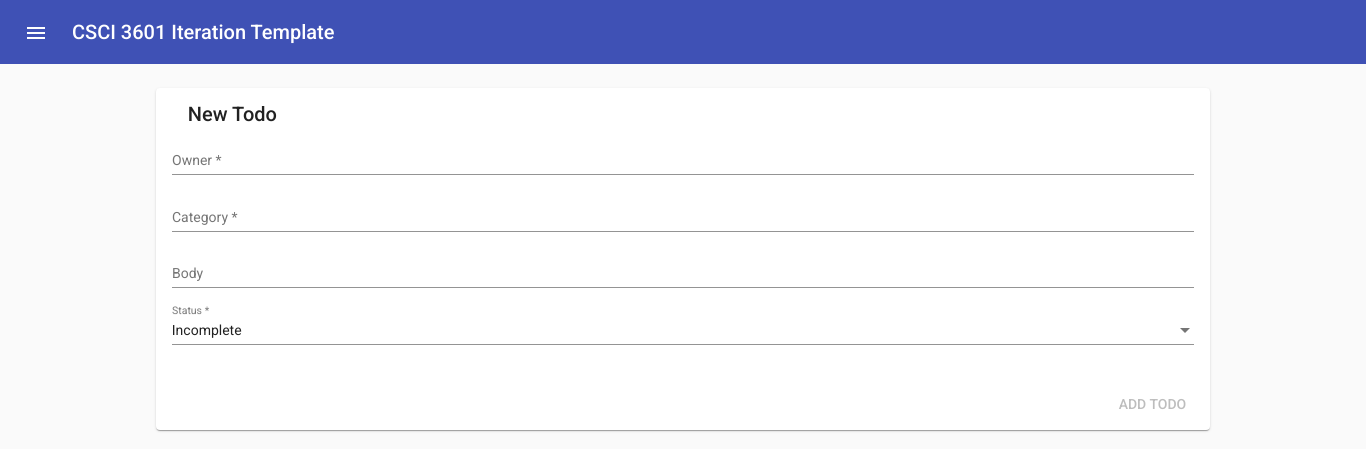
Scenario: Add Todo › should enable and disable the add button based on completeness of fields
Check: the button with test id "confirmAddTodoButton" is disabled, box [1103, 386, 1203, 422]
Type "John" into the field labelled "Owner *" at (683, 161), box [172, 153, 1194, 169]
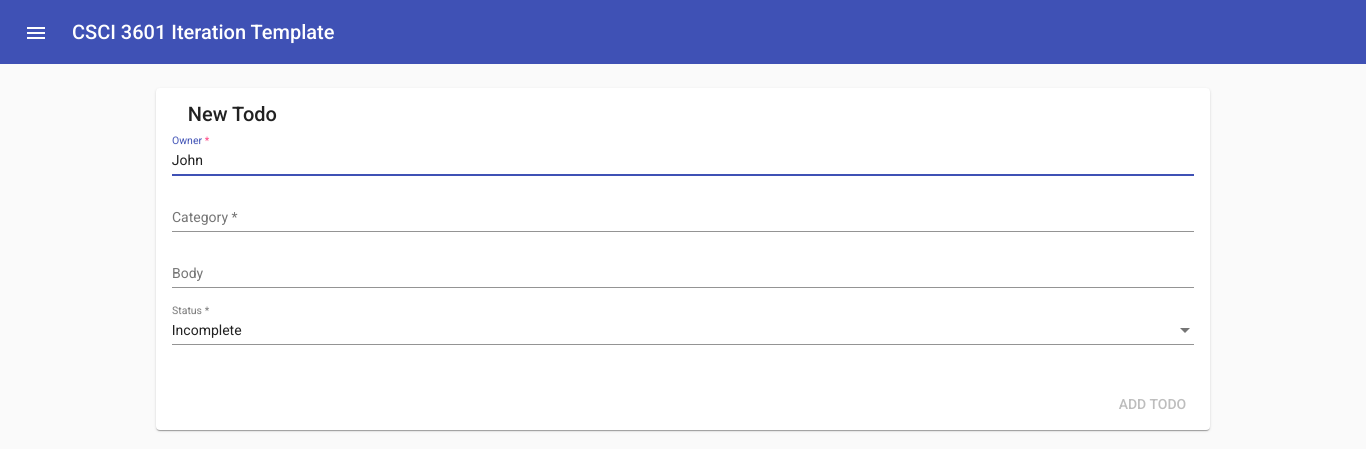
Type "homework" into the field labelled "Category *" at (683, 218), box [172, 210, 1194, 226]
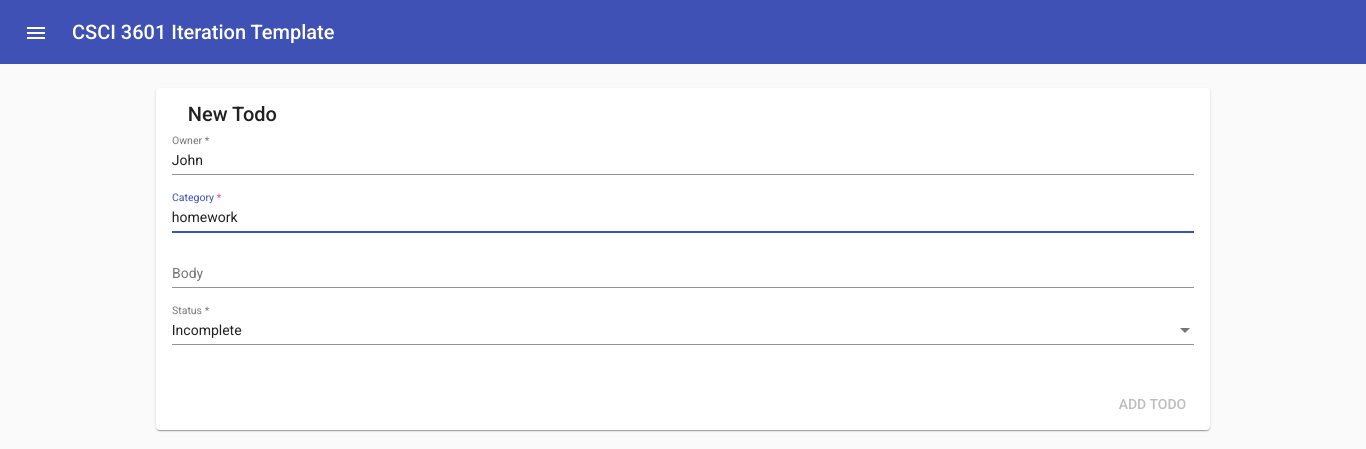
Check: the button with test id "confirmAddTodoButton" is disabled, box [1103, 386, 1203, 422]
Type "this is a body" into the field with placeholder "Body" at (683, 274), box [172, 266, 1194, 282]
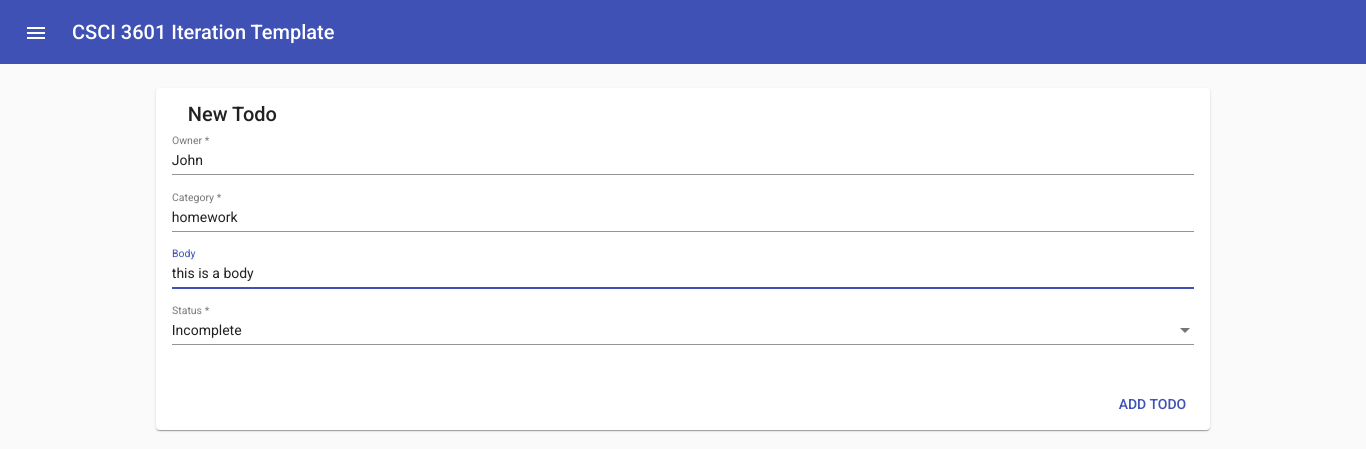
Check: the button with test id "confirmAddTodoButton" is enabled, box [1103, 386, 1203, 422]
Clear the field labelled "Owner *" at (683, 161), box [172, 153, 1194, 169]
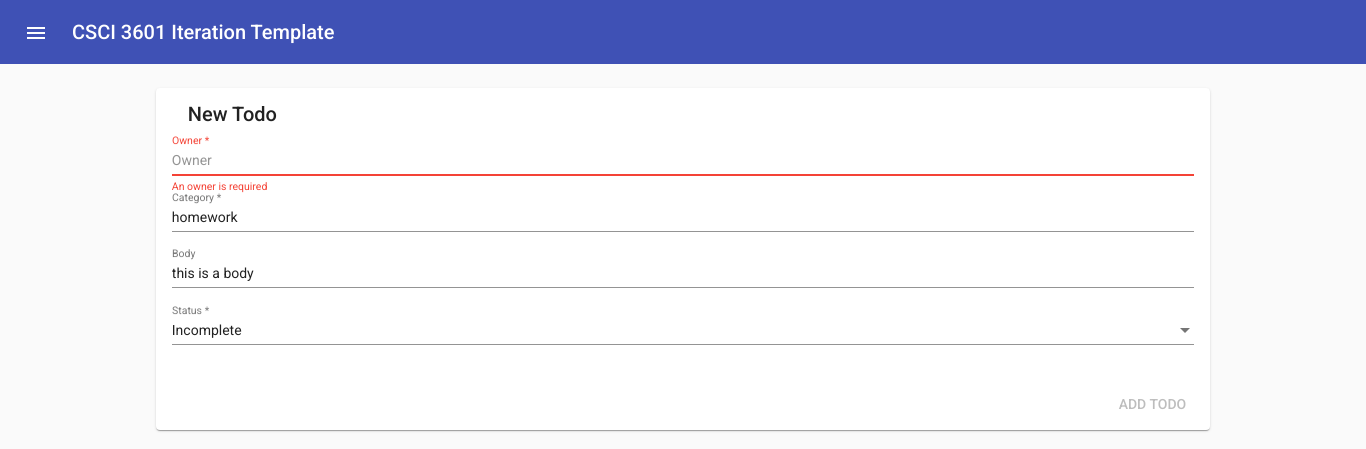
Check: the button with test id "confirmAddTodoButton" is disabled, box [1103, 386, 1203, 422]
